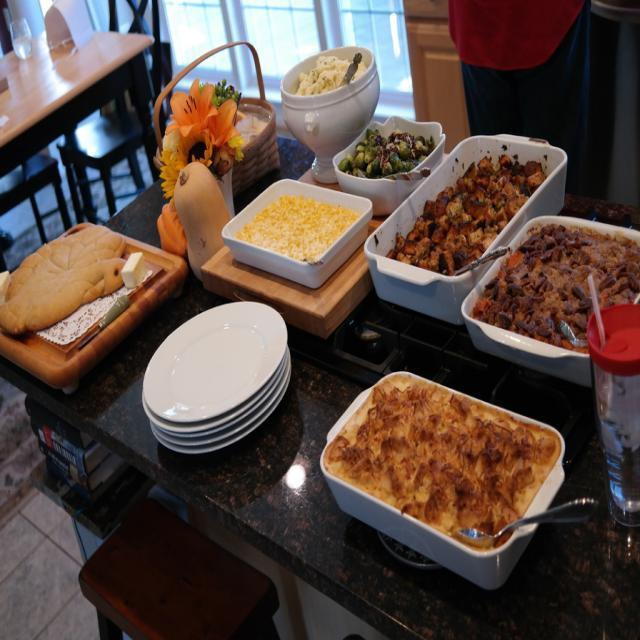ceramic plate: (141, 294, 293, 472)
